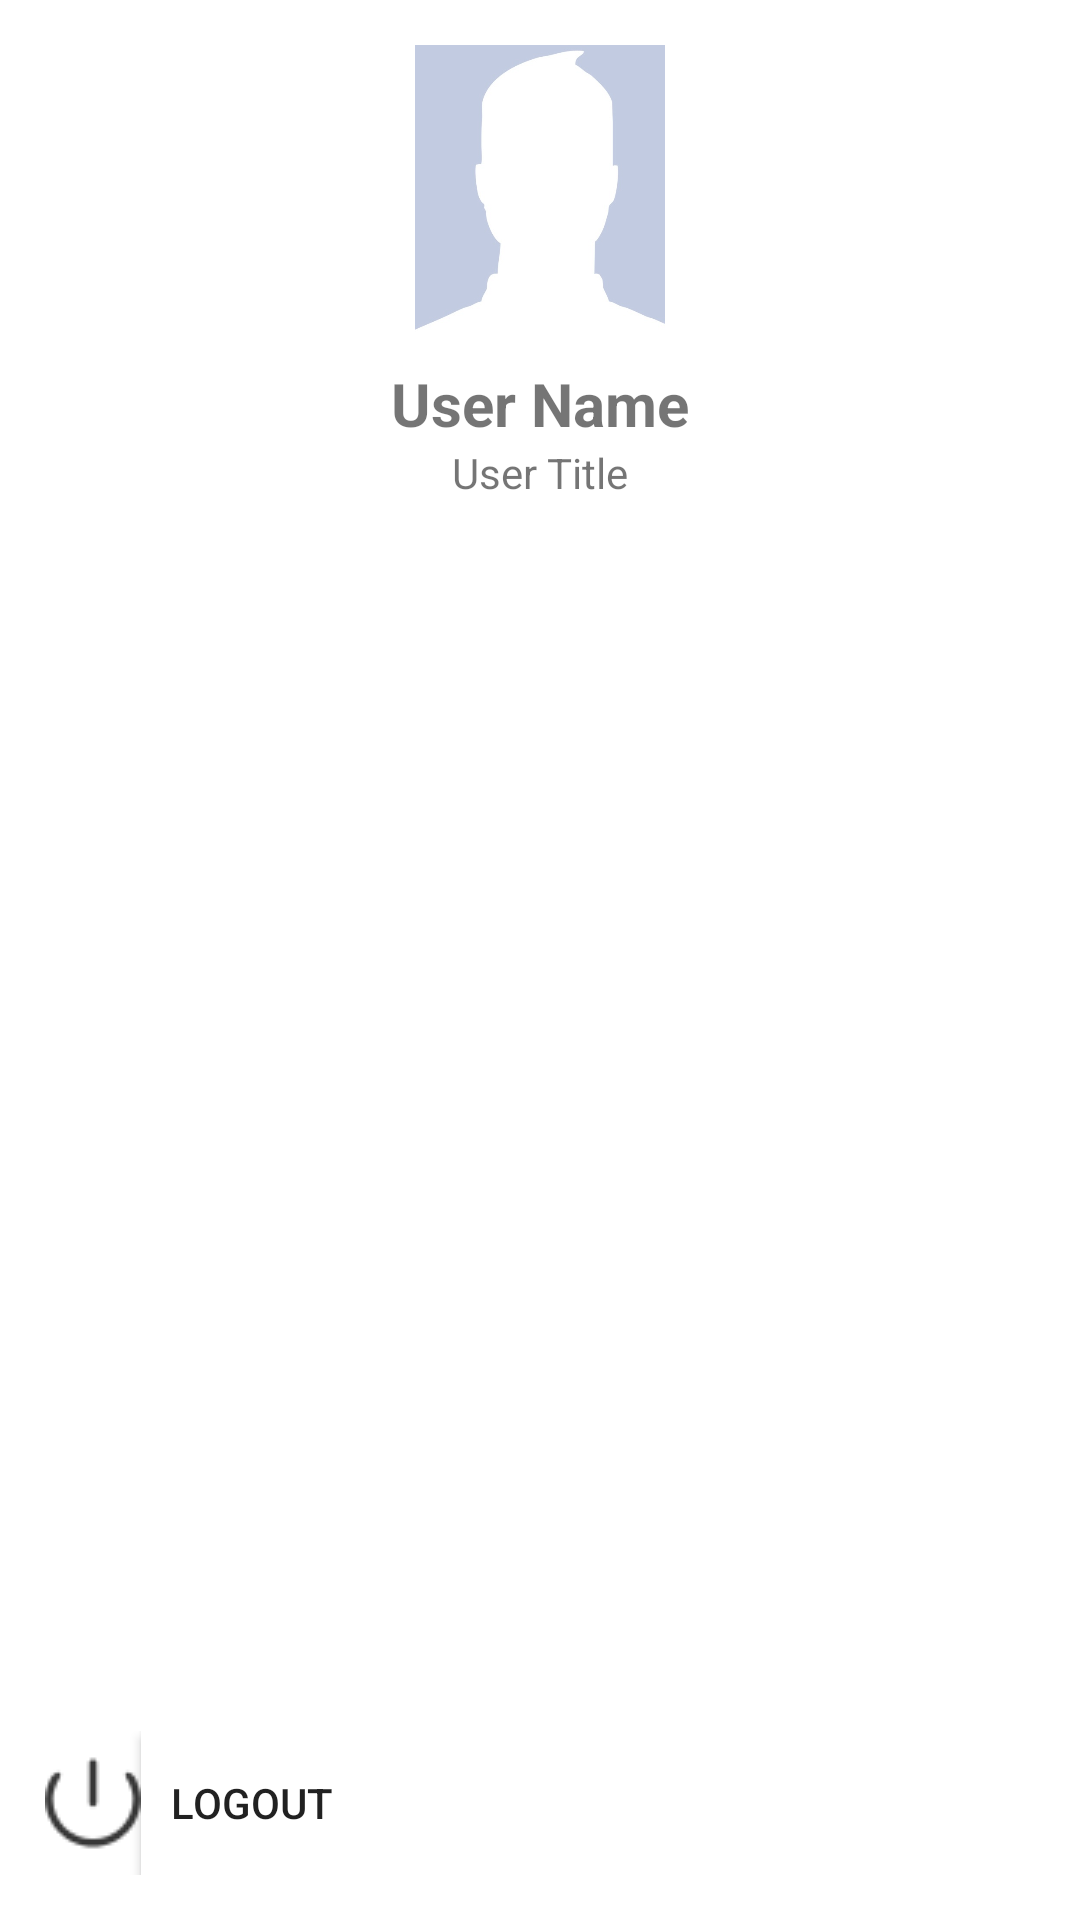

Named icons in this screenshot (1080 × 1920) and their bounding boxes, region(x1, y1, x2, y2):
off: region(45, 1755, 141, 1851)
